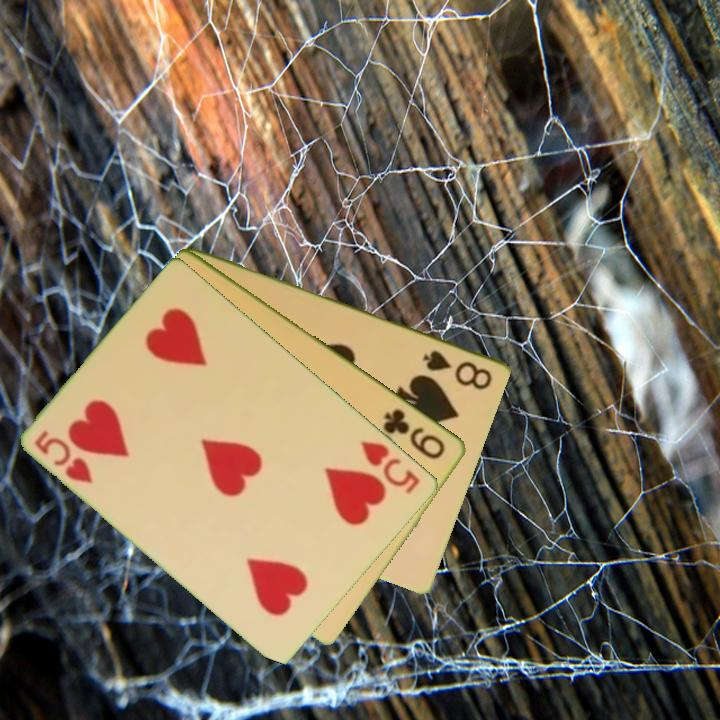5h: (357, 437, 423, 497), (31, 426, 97, 486)
8s: (420, 346, 496, 393)
9c: (380, 404, 449, 463)
